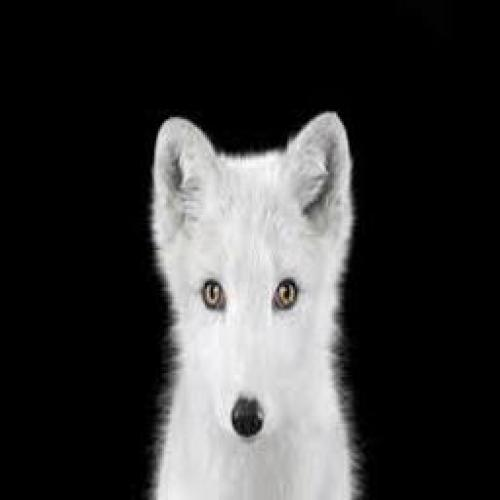arctic_fox-endangered: (149, 113, 360, 500)
